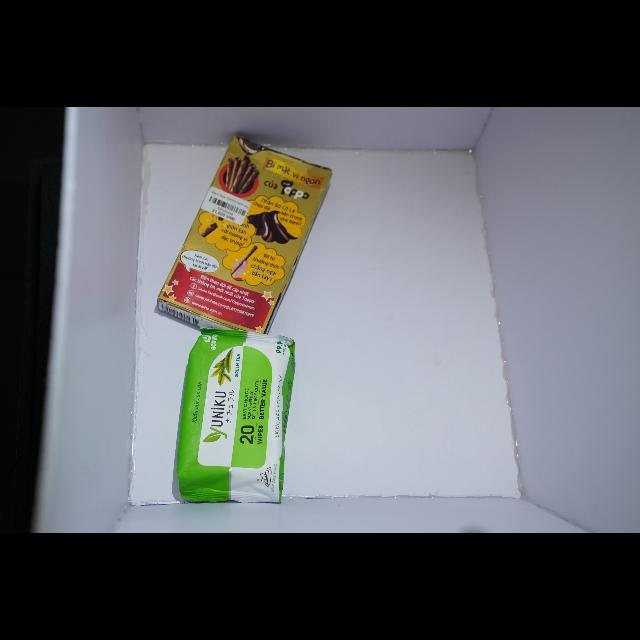banh_toppo_socola: (157, 136, 332, 333)
khan_giay: (177, 329, 294, 503)
